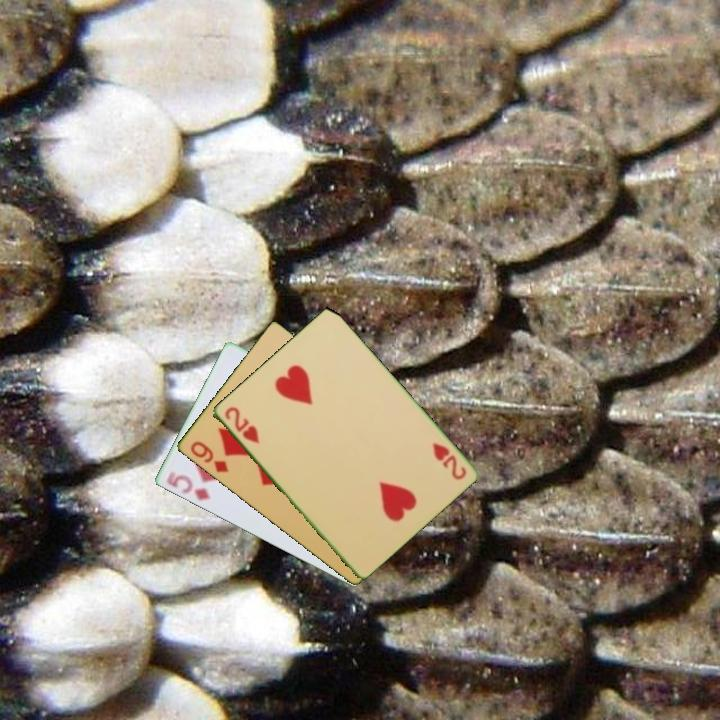2h: (221, 403, 262, 447), (428, 439, 469, 483)
5d: (162, 468, 213, 503)
9d: (186, 438, 231, 476)
